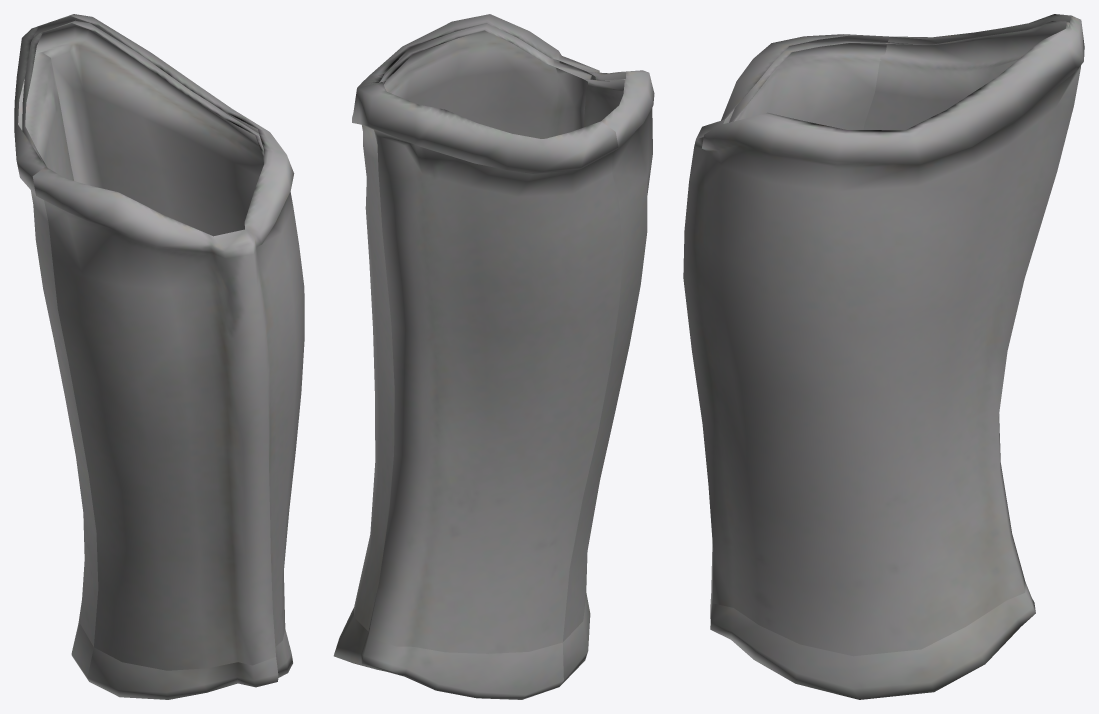
Rendered from Stormtrooper_LowerLegR.fbx.
3 renders of one model, left to right at view 1: azimuth 30°, elevation 25°; view 2: azimuth 150°, elevation 25°; view 3: azimuth 270°, elevation 25°, orthographic. The views are drawn at different scales.
Visible parts, largest first — view 1: LowerLegR; view 2: LowerLegR; view 3: LowerLegR.
Boxes of the visible parts, box(x1,y1,x2,y2) form: LowerLegR: box(14, 14, 304, 699); LowerLegR: box(333, 14, 654, 699); LowerLegR: box(683, 14, 1084, 699).
Size of the model in its own units: 0.191 by 0.4619 by 0.2703.
